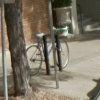Bicycle: (24, 27, 82, 81)
